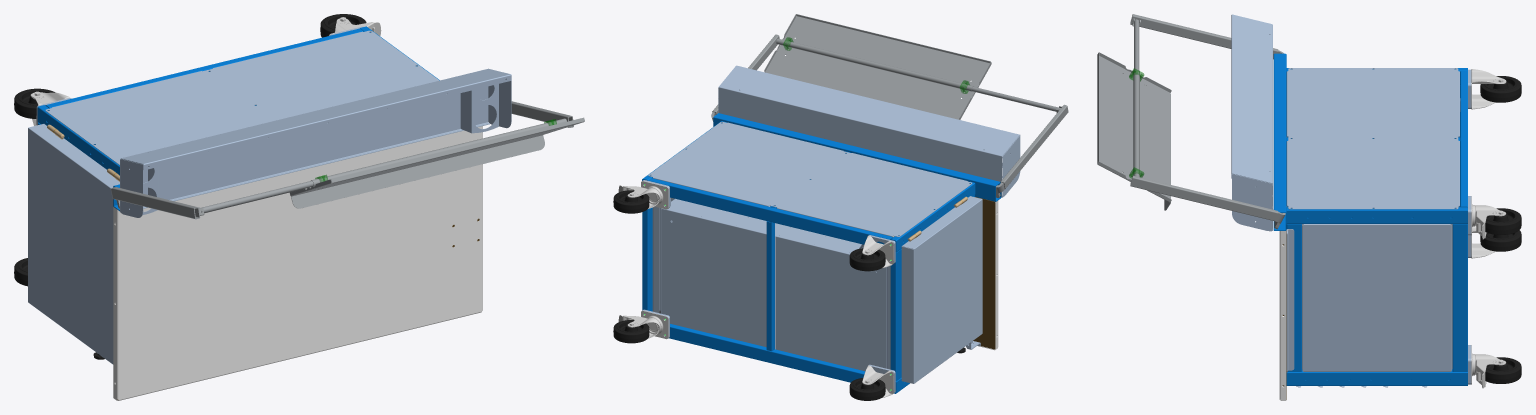
File: 018790-000_Werkbank.glb
The picture shows the model from 3 angles, left to right: view 1: azimuth 30°, elevation 25°; view 2: azimuth 150°, elevation 25°; view 3: azimuth 270°, elevation 25°; orthographic projection. The views are drawn at different scales.
Visible parts, largest first — view 1: 018790-025, 018790-100_oa_5, 018790-031, 018790-050_oa_6, 018790-006, 018790-017h - 2024, 015217, 015216; view 2: 018790-100_oa_5, 018790-012 - 2024_oa_4, 018790-031, 018790-050_oa_6, 018790-006 (×2), 015216 (×2), 018790-035, 018790-018 (×2), 015217 (×2), 018790-048, 018790-028, 018790-001 (+3 smaller); view 3: 018790-031, 018790-027, 018790-100_oa_5, 018790-018 (×2), 018790-017h - 2024, 015216 (×2), 018790-017v - 2024, 015217 (×2), 018790-035, 018790-025, 018790-038, 018790-006.
Part boxes in pixels (x1,y1,x2,y2): 018790-025: (113,126,482,400); 018790-100_oa_5: (110,68,584,219); 018790-031: (45,30,439,164); 018790-050_oa_6: (28,124,119,364); 018790-006: (45,28,363,108); 018790-017h - 2024: (37,105,119,175); 015217: (14,88,69,125); 015216: (320,14,381,37); 018790-100_oa_5: (711,14,1068,197); 018790-012 - 2024_oa_4: (660,197,887,373); 018790-031: (648,121,972,236); 018790-050_oa_6: (901,196,982,383); 018790-006 (×2): (648,178,893,382); 015216 (×2): (613,181,668,343); 018790-035: (713,113,1001,201); 018790-018 (×2): (642,207,901,381); 015217 (×2): (849,235,893,400); 018790-048: (973,197,995,349); 018790-028: (766,221,774,351); 018790-001: (652,206,660,312); 018790-031: (1286,68,1459,209); 018790-027: (1302,224,1451,371); 018790-100_oa_5: (1097,14,1285,231); 018790-018 (×2): (1286,224,1467,371); 018790-017h - 2024: (1286,207,1467,223); 015216 (×2): (1471,196,1521,388); 018790-017v - 2024: (1286,369,1467,385); 015217 (×2): (1471,69,1521,258); 018790-035: (1273,53,1286,230); 018790-025: (1279,231,1286,400); 018790-038: (1286,229,1294,372); 018790-006: (1460,71,1467,207).
Bounding box in the file's own units: 1.52 × 1.02 × 1.64.
